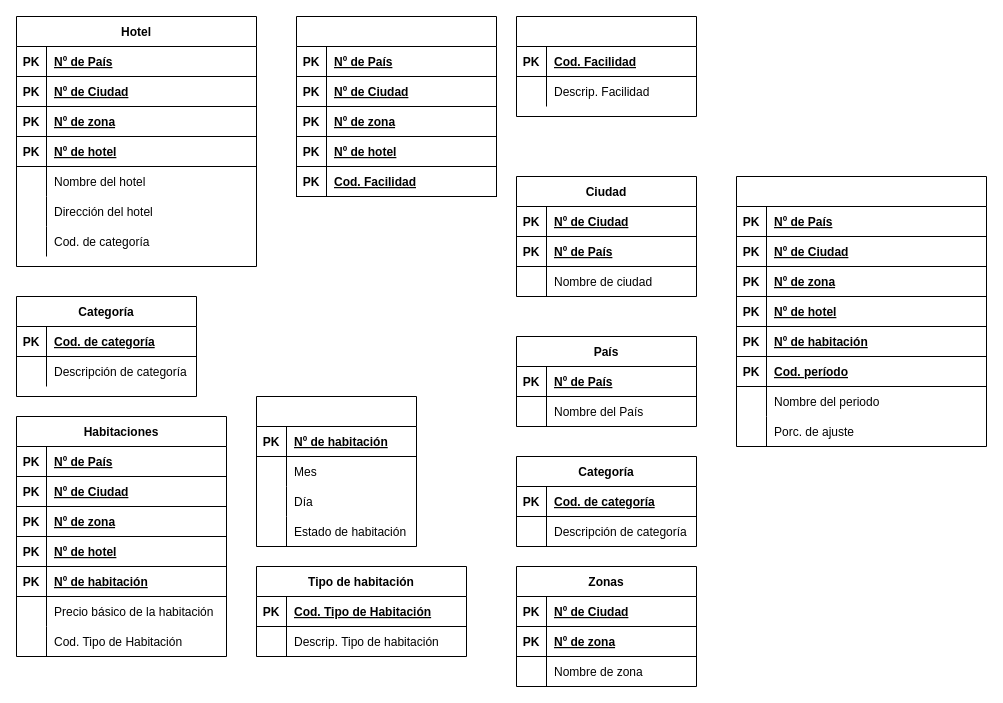
The diagram is 1003 pixels wide and 703 high, and some of its shapes have lost their labels. The shapes that lost their labels are listed below. From the top down, each one's box as (x1, y1, x2, y2) in pixels, then its label:
(516, 16, 696, 116): Facilidades
(296, 16, 496, 196): Facilidades x hotel
(736, 176, 986, 446): Diferencial por temporada alta
(256, 396, 416, 546): Disponibilidad
